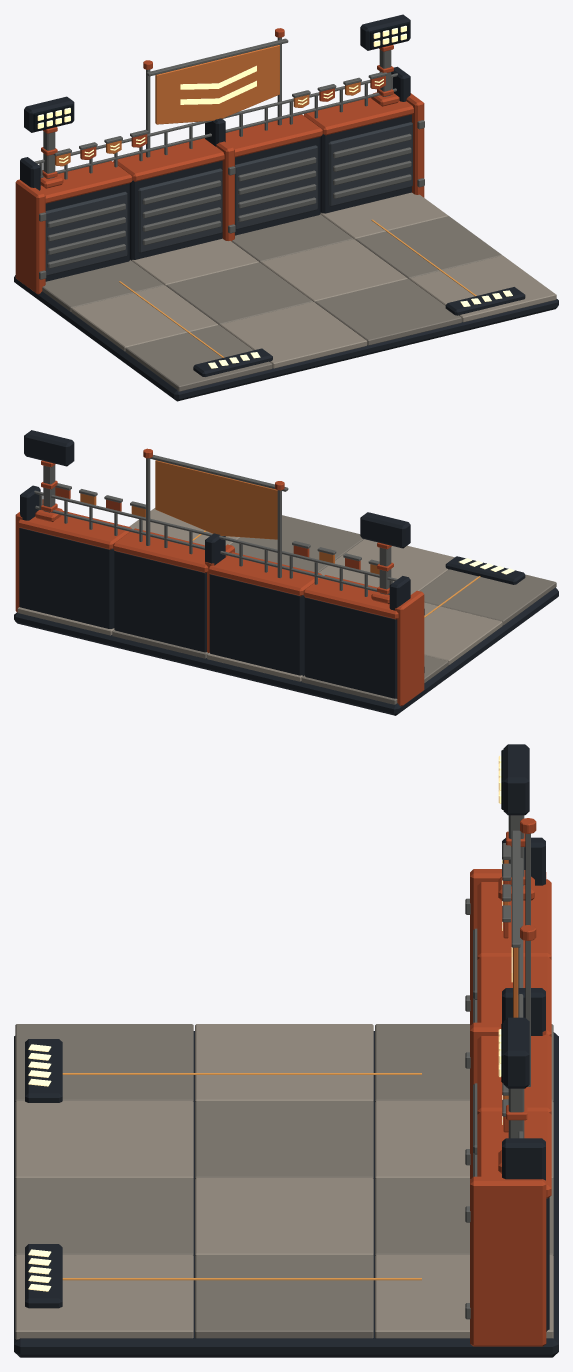
File: wsc-arch-009-gauntlet-court-kit.glb
3 renders of one model, top to bottom at view 1: azimuth 30°, elevation 25°; view 2: azimuth 150°, elevation 25°; view 3: azimuth 270°, elevation 25°, orthographic. The views are drawn at different scales.
Visible parts, largest first — view 1: deck, deck-light, charcoal, orange, steel, gunmetal, ochre, ivory, cinder, amber; view 2: charcoal, orange, deck, deck-light, ochre, steel; view 3: deck-light, deck, orange, charcoal, steel, ivory, amber.
Part boxes in pixels (box(x1,y1,x2,y2)): deck: box(42, 214, 502, 391); deck-light: box(71, 192, 556, 368); charcoal: box(14, 14, 558, 401); orange: box(15, 28, 424, 294); steel: box(34, 37, 424, 279); gunmetal: box(45, 122, 412, 275); ochre: box(55, 45, 360, 166); ivory: box(37, 25, 512, 368); cinder: box(33, 22, 409, 131); amber: box(119, 219, 476, 357); charcoal: box(14, 430, 558, 715); orange: box(15, 448, 424, 706); deck: box(112, 515, 556, 704); deck-light: box(17, 508, 502, 681); ochre: box(80, 460, 379, 574); steel: box(34, 455, 424, 672); deck-light: box(15, 1024, 553, 1339); deck: box(15, 1024, 553, 1338); orange: box(470, 818, 551, 1346); charcoal: box(14, 744, 558, 1357); steel: box(465, 815, 530, 1319); ivory: box(28, 755, 512, 1291); amber: box(62, 1073, 421, 1280).
Size of the model in its own units: 7.13 by 3.47 by 5.21.
